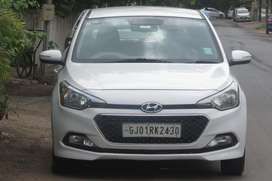GJ01RK2430: (122, 123, 182, 138)
